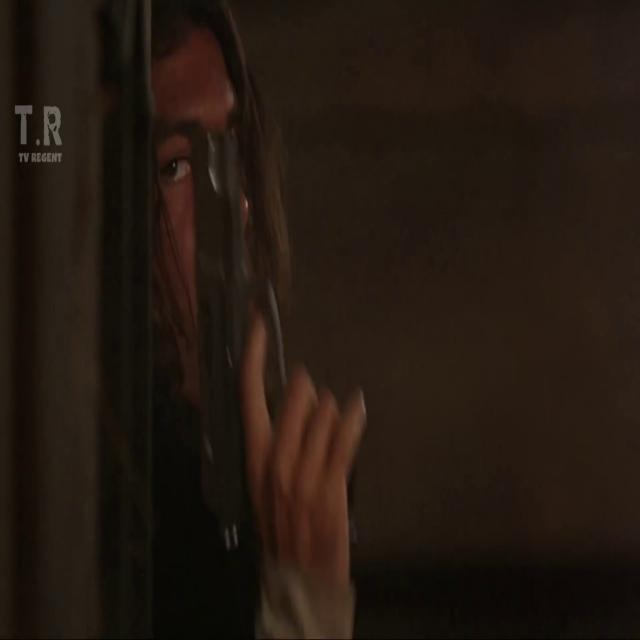handgun: (180, 118, 301, 590)
